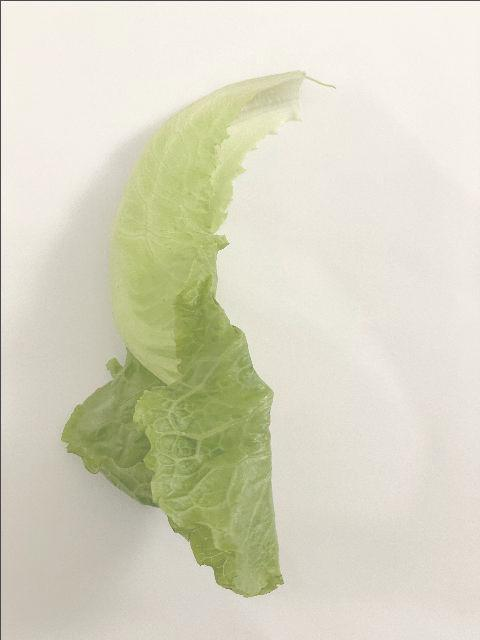lettuce: (56, 67, 308, 599)
